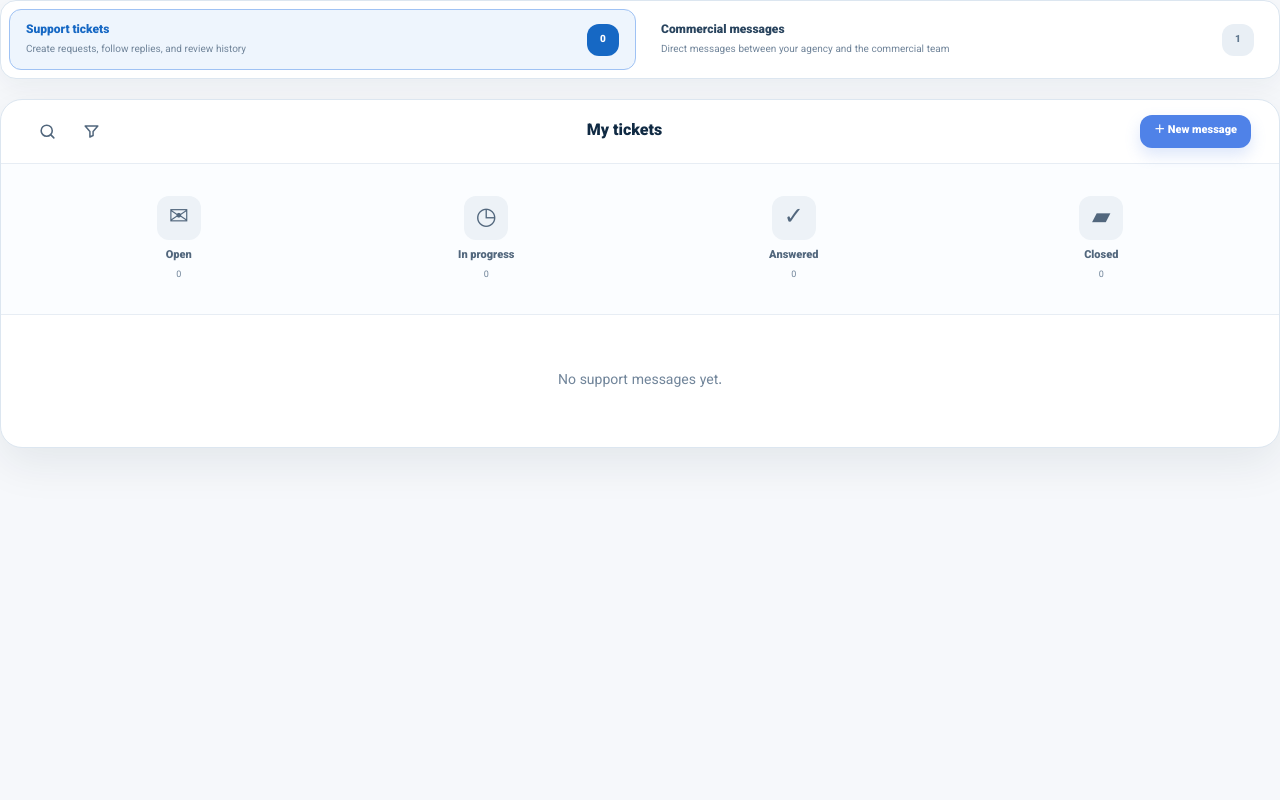
Test: AgencyInboxPage › renders translated heading, placeholder, and send button in English
This screenshot has width=1280, height=800.
Click the button "＋ New message": click(1196, 132) [1140,115,1251,148]
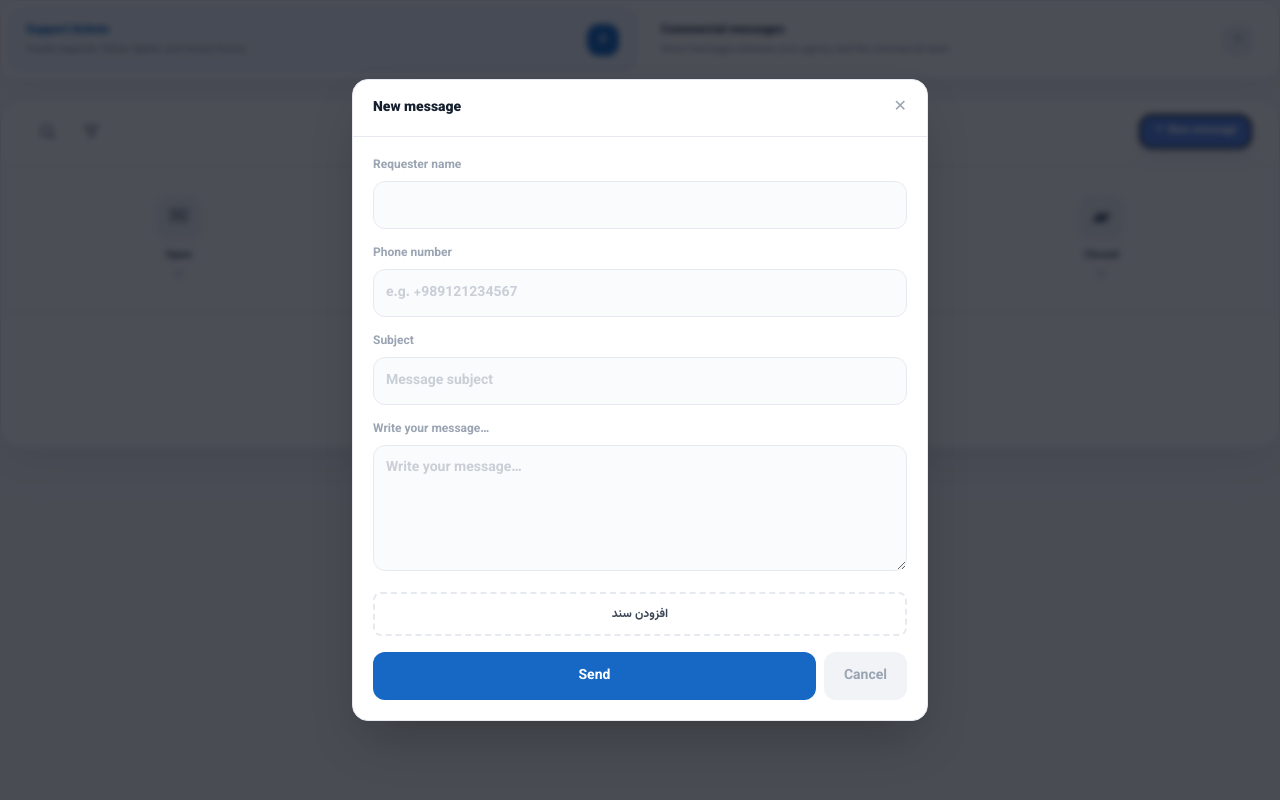
Now the text box with placeholder "Write your message…" is shown, box [373,445,907,571]
Now the button "Send" is shown, box [373,652,816,700]
